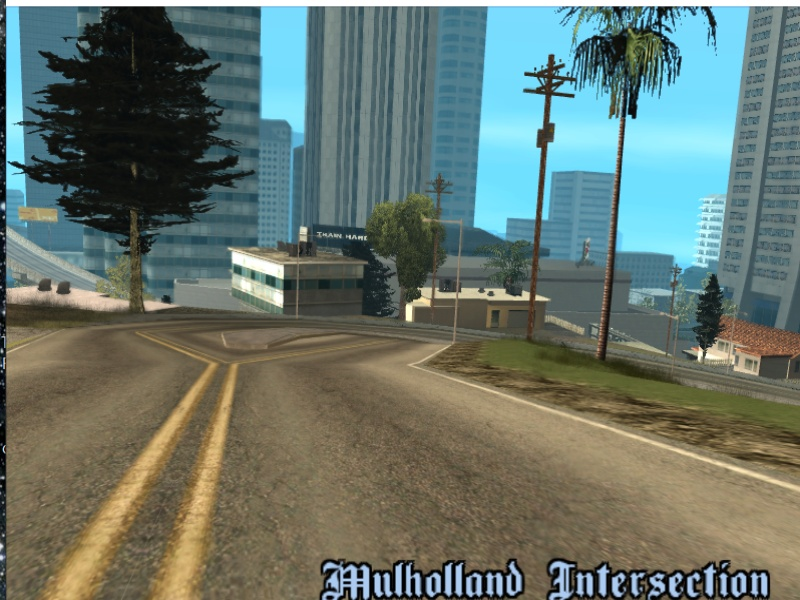pole: (524, 149, 546, 343), (455, 223, 461, 348)
tree: (595, 119, 612, 363), (125, 191, 151, 316), (670, 317, 680, 379), (294, 249, 302, 319)
